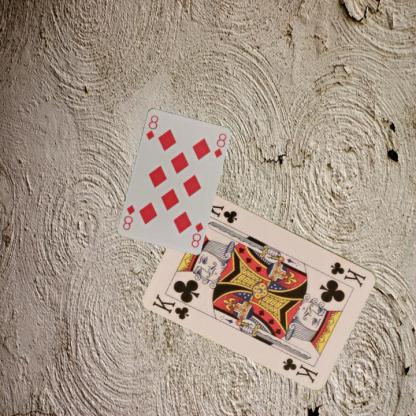8d: (188, 219, 204, 249), (144, 112, 160, 141)
Kc: (327, 259, 368, 289), (150, 291, 191, 321)
